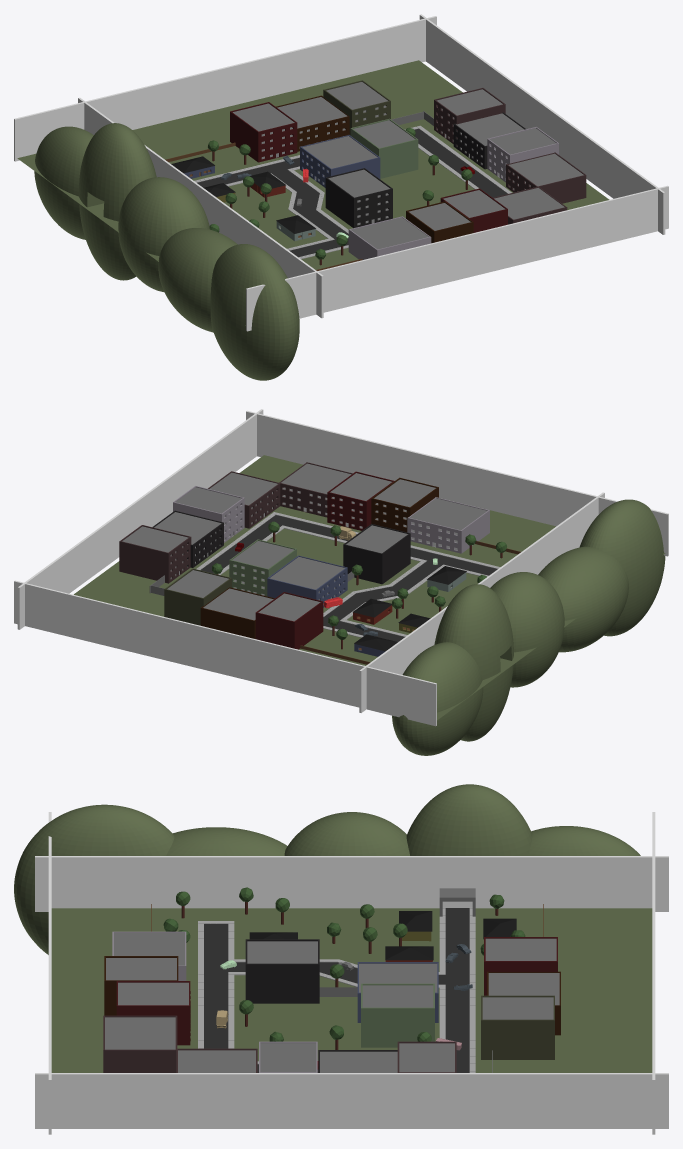
The model's file is ProjectMonsterConnceptMapTWORAMPEXT.fbx.
3 renders of one model, top to bottom at view 1: azimuth 30°, elevation 25°; view 2: azimuth 150°, elevation 25°; view 3: azimuth 270°, elevation 25°, orthographic. The views are drawn at different scales.
Visible parts, largest first — view 1: Barrier, Hills, Baseplate, Road, Door Large.007, Door Large.003, Door Large.008, Door Large.011, CeilingB.001, CeilingB.002, CeilingB.004, Door Large.014 (+19 smaller); view 2: Barrier, Hills, Baseplate, Road, Door Large.001, Door Large.003, Door Large.007, Door Large.013, Door Large.005, Door Large.002, Door Large.008, Door Large.014 (+20 smaller); view 3: Barrier, Baseplate, Hills, Road, Door Large.007, Door Large.002, Door Large.008, CeilingB.005, Door Large.012, CeilingB.004, CeilingB.003, Ceiling.003 (+18 smaller).
Part boxes in pixels (x1,y1,x2,y2): Barrier: [14, 14, 668, 331]; Hills: [34, 123, 299, 380]; Baseplate: [17, 60, 609, 325]; Road: [194, 125, 511, 259]; Door Large.007: [325, 168, 392, 228]; Door Large.003: [230, 102, 297, 162]; Door Large.008: [350, 118, 418, 178]; Door Large.011: [506, 152, 586, 203]; CeilingB.001: [351, 217, 428, 249]; CeilingB.002: [302, 136, 377, 168]; CeilingB.004: [509, 153, 583, 186]; Door Large.014: [300, 135, 380, 187]; Barrier: [14, 409, 668, 726]; Hills: [392, 499, 665, 755]; Baseplate: [74, 455, 665, 720]; Road: [196, 512, 500, 641]; Door Large.001: [119, 525, 191, 583]; Door Large.003: [255, 592, 323, 649]; Door Large.007: [343, 524, 410, 584]; Door Large.013: [407, 497, 489, 553]; Door Large.005: [327, 471, 394, 530]; Door Large.002: [164, 568, 231, 625]; Door Large.008: [229, 539, 296, 596]; Door Large.014: [267, 555, 347, 607]; Barrier: [35, 812, 668, 1134]; Baseplate: [51, 908, 652, 1072]; Hills: [14, 784, 640, 954]; Road: [198, 907, 475, 1072]; Door Large.007: [245, 939, 319, 1003]; Door Large.002: [481, 995, 554, 1059]; Door Large.008: [361, 983, 434, 1047]; CeilingB.005: [105, 1017, 175, 1049]; Door Large.012: [103, 1015, 177, 1072]; CeilingB.004: [178, 1050, 255, 1072]; CeilingB.003: [320, 1051, 397, 1072]; Ceiling.003: [260, 1043, 316, 1072].
Size of the model in its own units: 21700 by 21396 by 7200.
